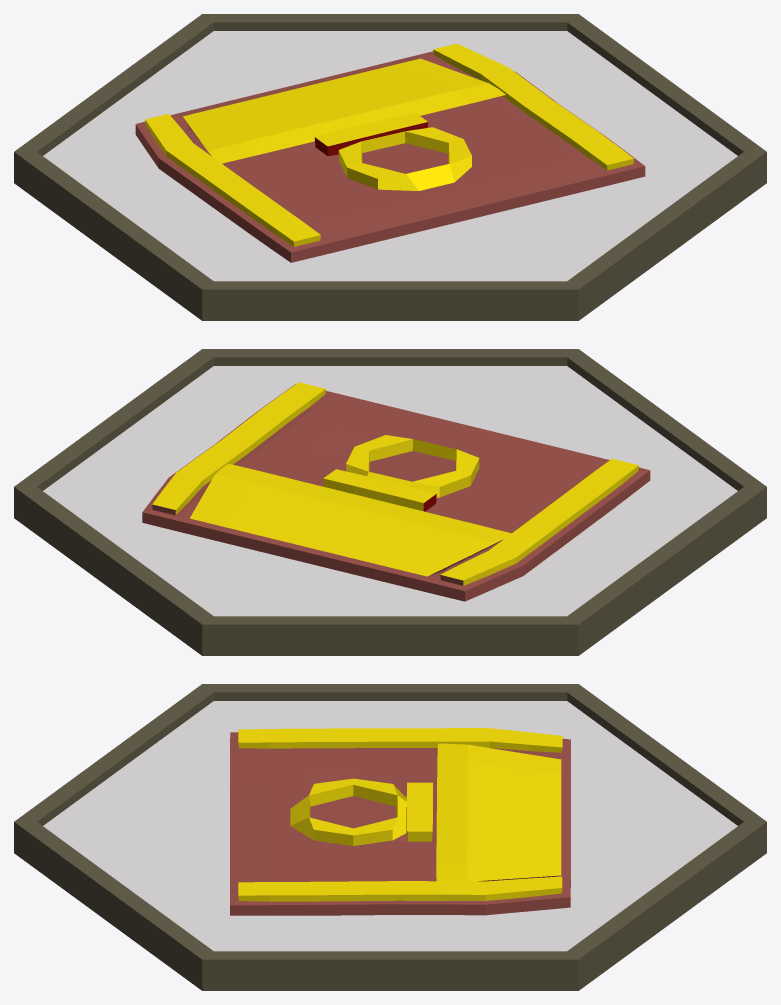
File: ChestGoldDice.fbx
The picture shows the model from 3 angles, top to bottom: view 1: azimuth 30°, elevation 25°; view 2: azimuth 150°, elevation 25°; view 3: azimuth 270°, elevation 25°; orthographic projection.
Parts seen in each view (by area): view 1: ChestGold; view 2: ChestGold; view 3: ChestGold.
Part boxes in pixels (x1,y1,x2,y2): ChestGold: [14, 14, 766, 320]; ChestGold: [14, 349, 766, 655]; ChestGold: [14, 684, 766, 990].
Bounding box in the file's own units: 314 × 24.14 × 363.
